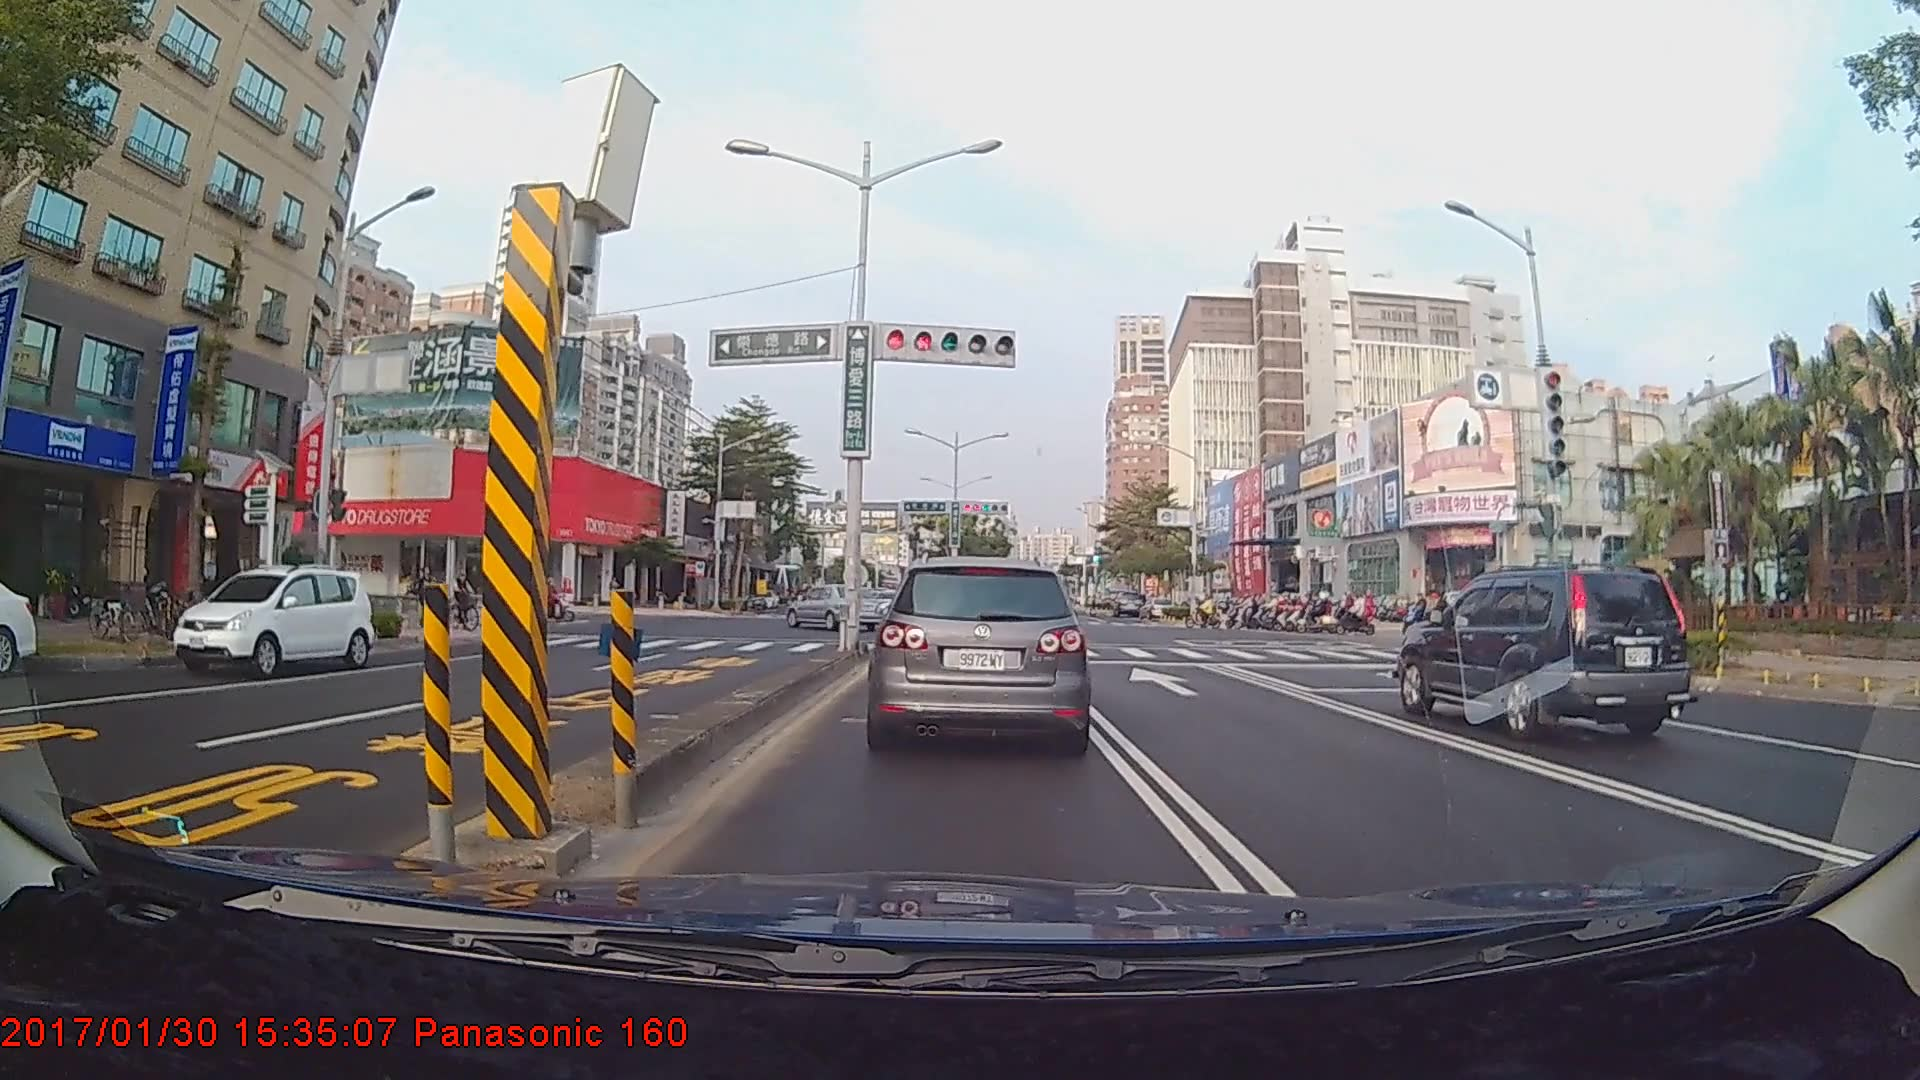pedestrian: (413, 567, 436, 632)
vehicle: (1391, 568, 1691, 746), (862, 550, 1091, 752), (173, 567, 374, 677), (785, 583, 884, 632), (1113, 590, 1143, 618)
